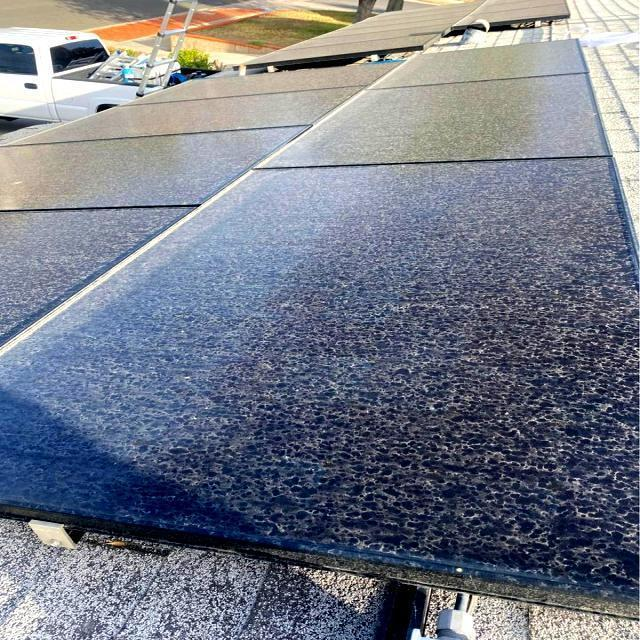soiled: (1, 51, 640, 604)
